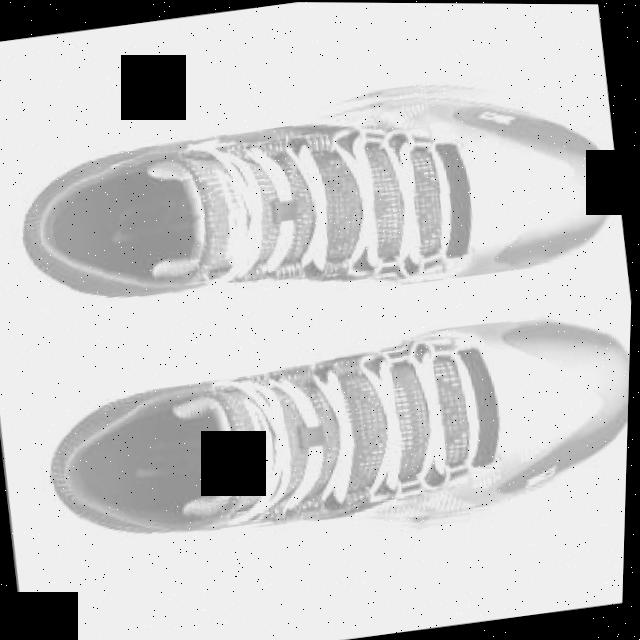shoe: (1, 53, 631, 338), (28, 299, 633, 585)
